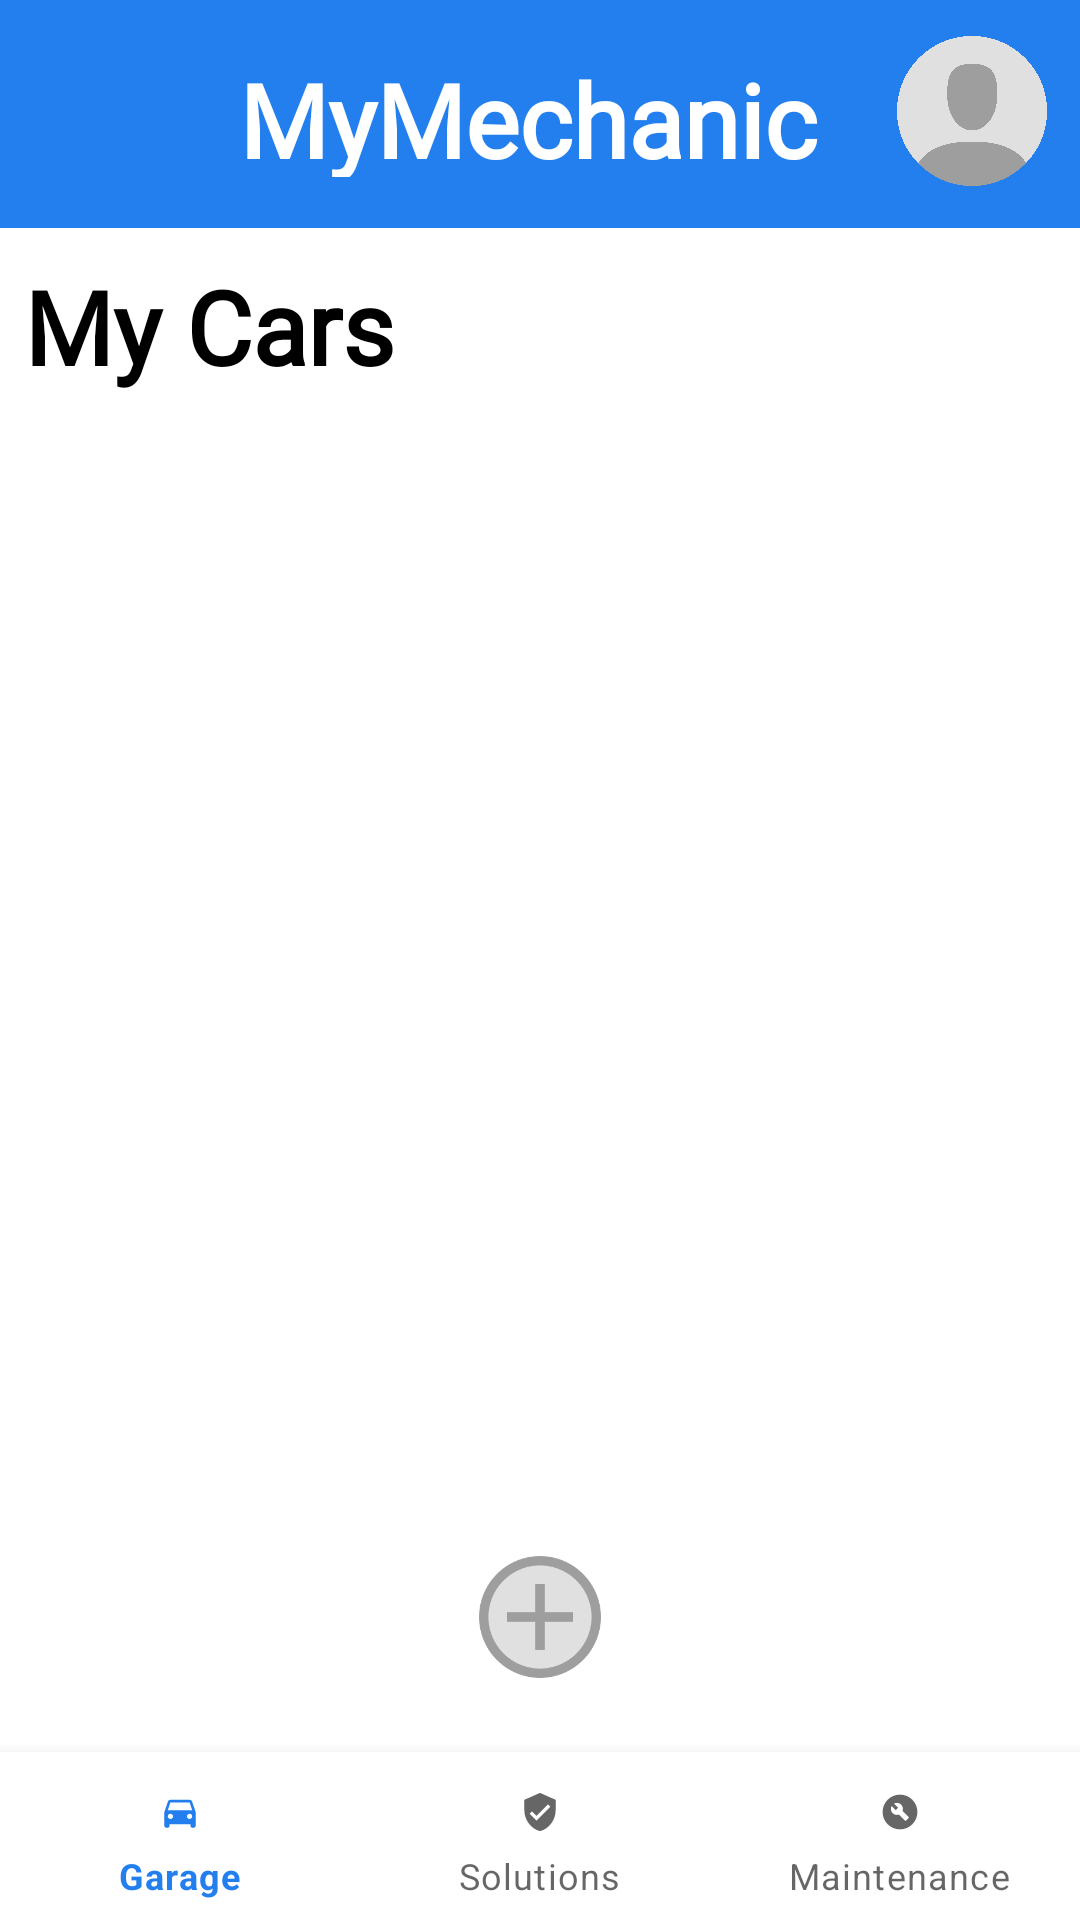

Point at icon controls on the screen. Image size 1080w x 1920h, points as [x,y].
addbutton: [540,1617]
